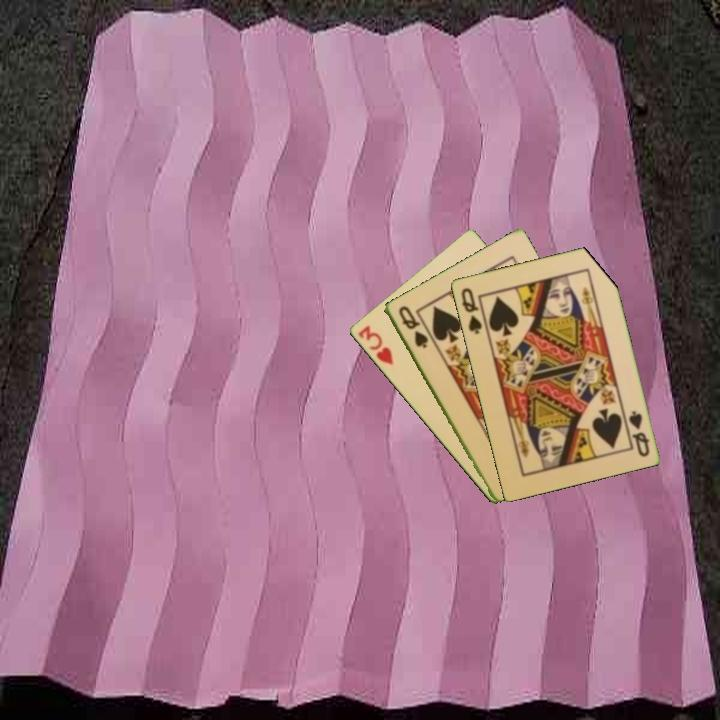3h: (354, 322, 396, 368)
Qs: (395, 302, 431, 351), (457, 284, 485, 337), (625, 407, 652, 459)
